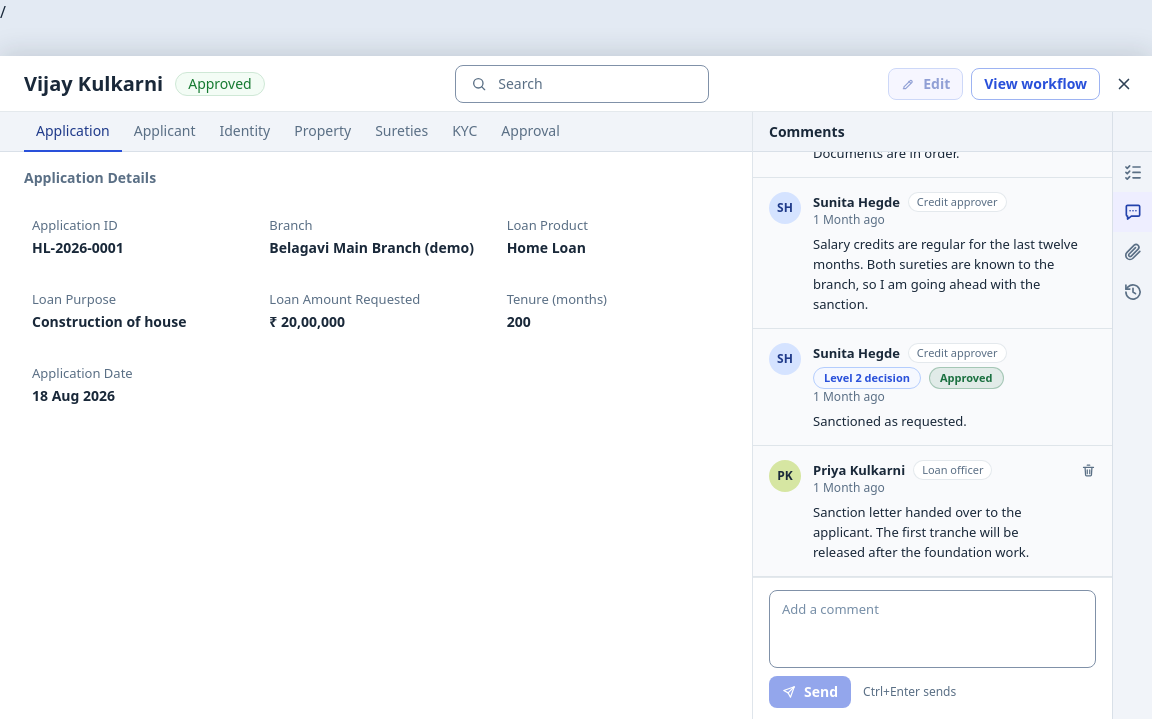
it: the panel › has a row for each document, with the file, the DocType, the status and the folder as a link
(page scrolled)
Click the button named "Files and Attachments": (1132, 252) left=1113, top=232, right=1151, bottom=272
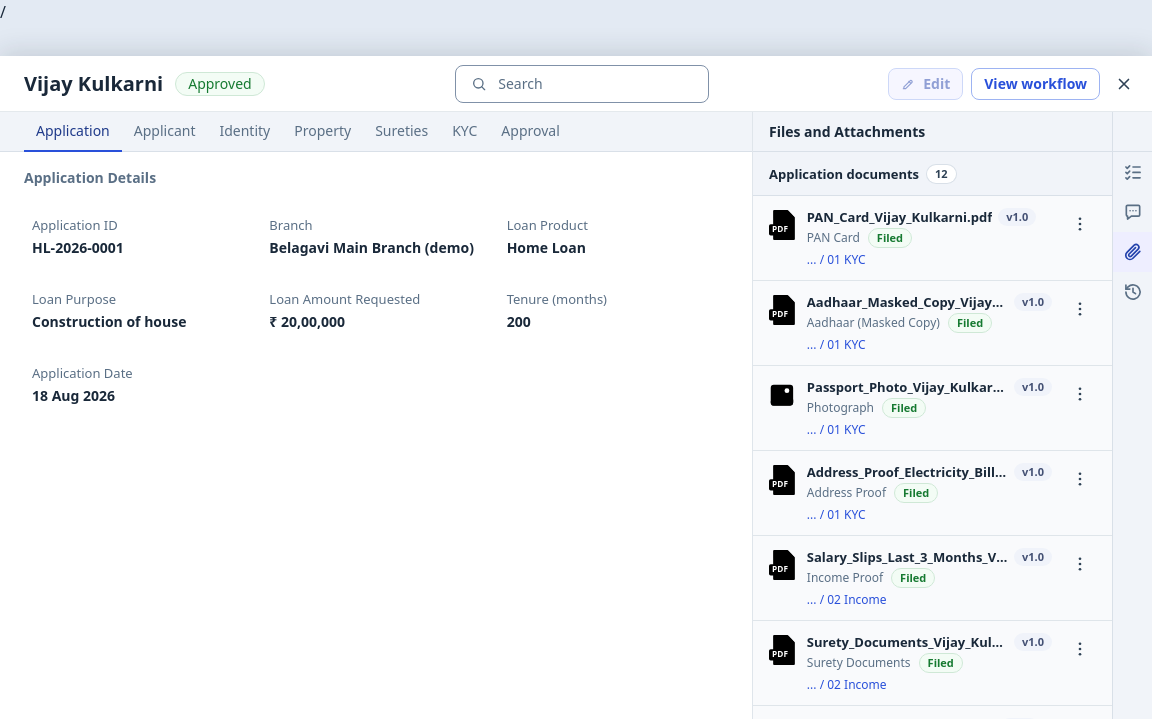
Check: the text "PAN Card" is shown, box left=807, top=230, right=860, bottom=246
Check: the text "v1.0" next to "PAN_Card_Vijay_Kulkarni.pdf" is shown, box left=1006, top=209, right=1028, bottom=224
Check: the text "Filed" next to "PAN Card" is shown, box left=877, top=230, right=903, bottom=245
